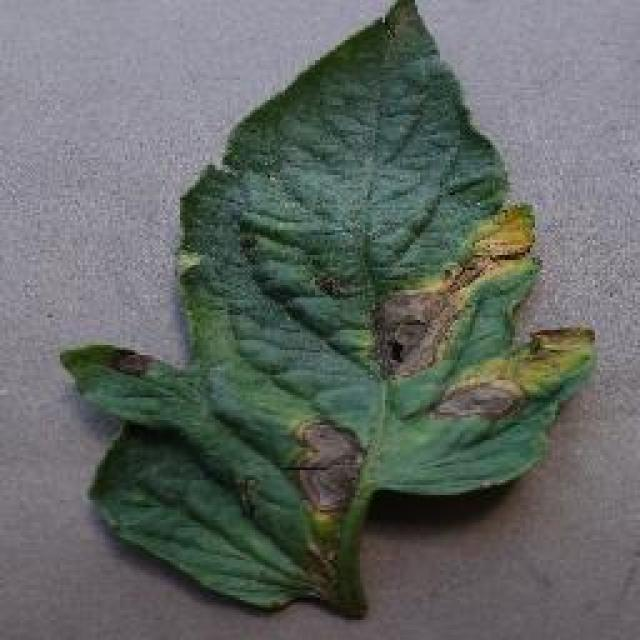Tomato Early blight leaf: (94, 2, 578, 622)
